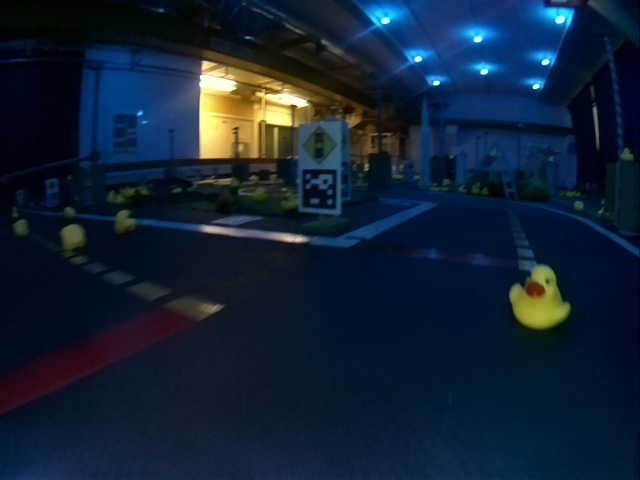Duckie: (508, 263, 571, 328), (60, 224, 85, 249), (115, 210, 136, 233), (13, 220, 29, 236), (282, 193, 297, 210), (253, 187, 266, 201), (621, 148, 634, 161)
QR code: (302, 168, 338, 211)
Signal sign: (300, 125, 338, 165)
